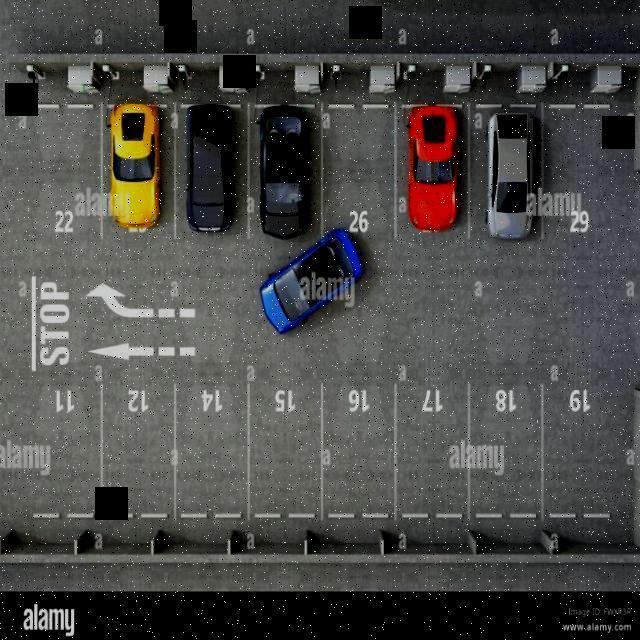space-empty: (17, 378, 103, 521), (319, 101, 398, 242), (173, 383, 252, 523), (392, 382, 472, 520), (319, 387, 399, 524), (539, 100, 613, 245), (33, 101, 106, 246), (100, 386, 178, 521), (246, 384, 323, 520), (540, 387, 615, 523), (469, 385, 546, 517)
space-occupied: (392, 101, 474, 247), (99, 102, 181, 245), (171, 99, 253, 242), (246, 99, 323, 243), (469, 100, 546, 244), (323, 243, 324, 244)
